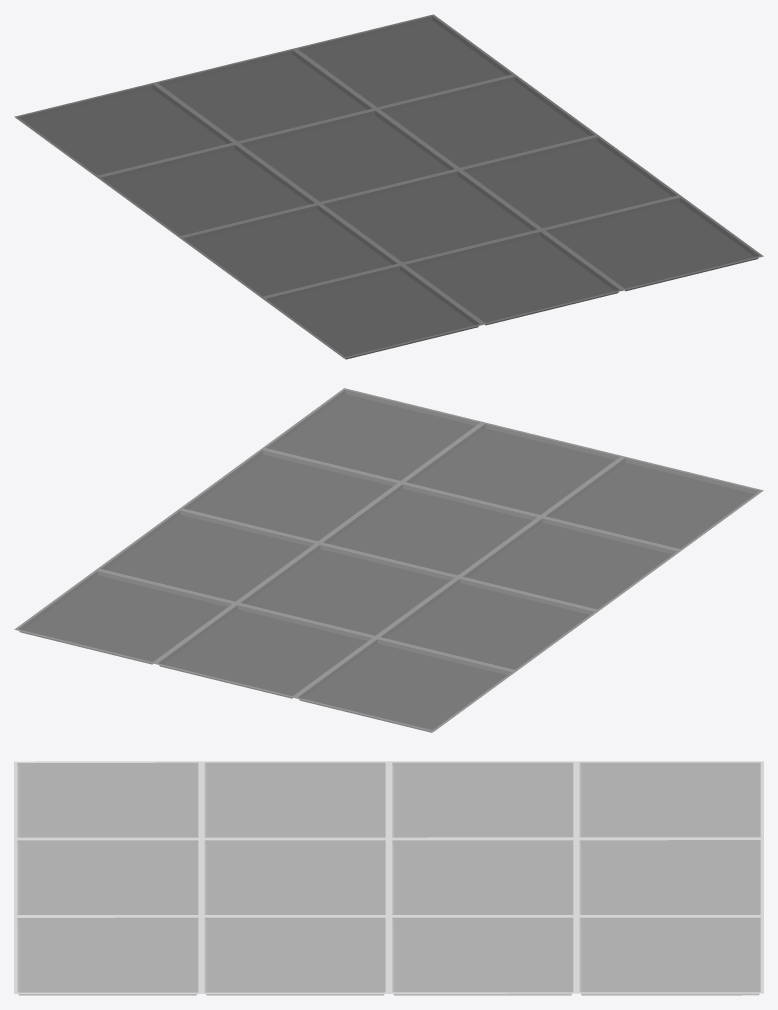
3 renders of one model, top to bottom at view 1: azimuth 30°, elevation 25°; view 2: azimuth 150°, elevation 25°; view 3: azimuth 270°, elevation 25°, orthographic. The views are drawn at different scales.
Visible parts, largest first — view 1: FP415:Cube.1898_2e37e6dc; view 2: FP415:Cube.1898_2e37e6dc; view 3: FP415:Cube.1898_2e37e6dc.
Part boxes in pixels (bbox=[...]): FP415:Cube.1898_2e37e6dc: bbox=[14, 14, 763, 359]; FP415:Cube.1898_2e37e6dc: bbox=[14, 388, 763, 732]; FP415:Cube.1898_2e37e6dc: bbox=[14, 761, 763, 995].
Size of the model in its own units: 2.83 by 0.0235 by 3.86.
